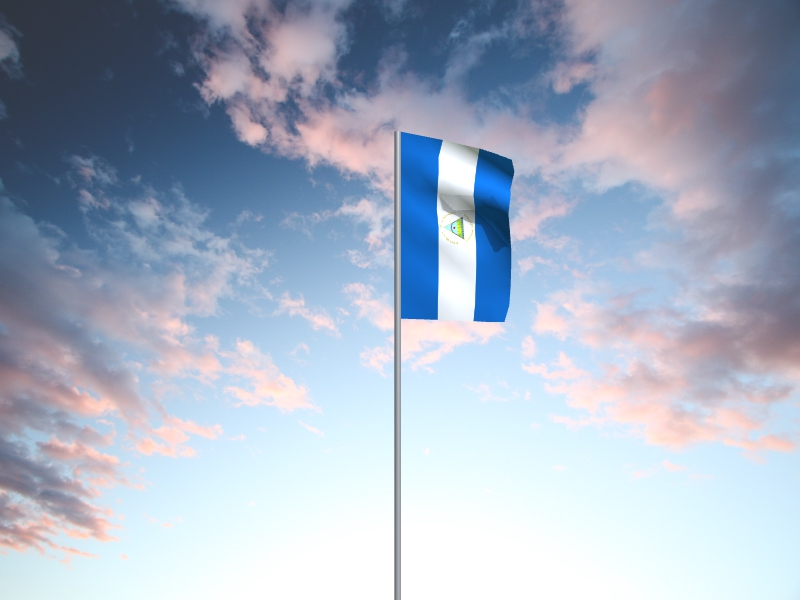ni: (402, 133, 516, 324)
